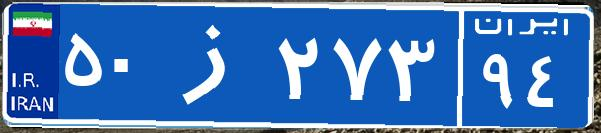0: (110, 28, 158, 105)
2: (273, 28, 330, 110)
3: (385, 28, 445, 110)
4: (525, 38, 570, 115)
5: (57, 26, 110, 107)
7: (330, 28, 385, 110)
9: (475, 38, 525, 113)
ز: (158, 15, 273, 115)
